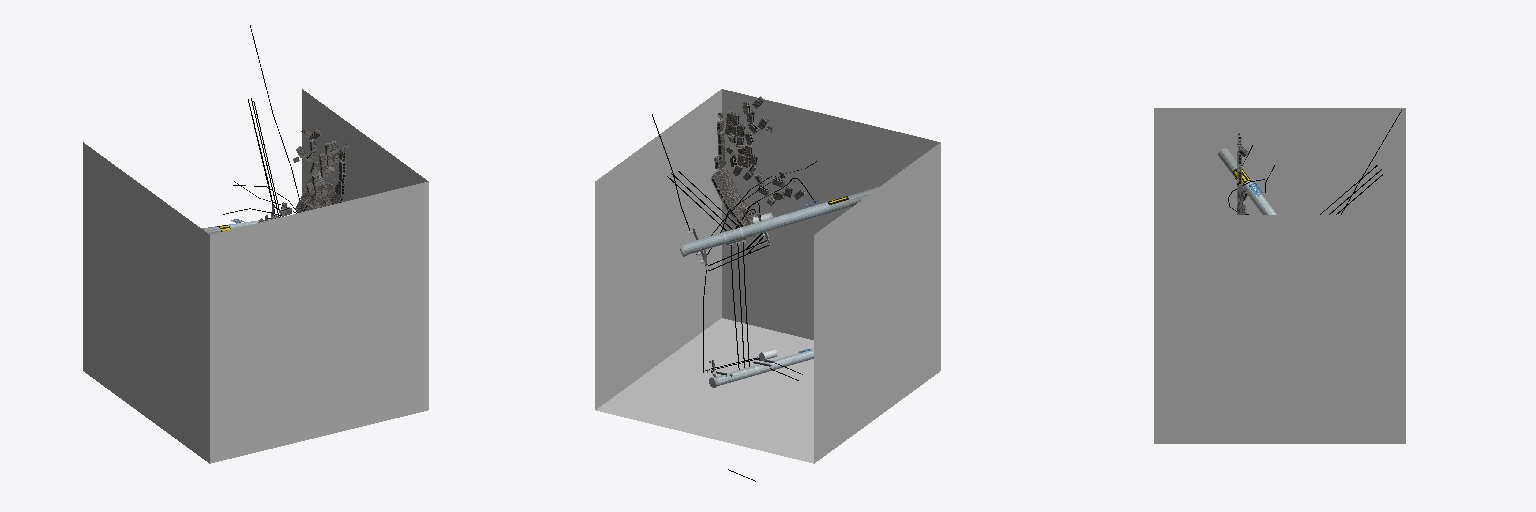
3 renders of one model, left to right at view 1: azimuth 30°, elevation 25°; view 2: azimuth 150°, elevation 25°; view 3: azimuth 270°, elevation 25°, orthographic.
Visible parts, largest first — view 1: Cube_Cube.001, Cube.050; view 2: Cube_Cube.001, Cube.050, Cylinder, Cylinder.003_Cylinder.001; view 3: Cube_Cube.001, Cylinder, Cube.050.
Part boxes in pixels (bbox=[...]): Cube_Cube.001: bbox=[83, 89, 428, 463]; Cube.050: bbox=[258, 127, 348, 222]; Cube_Cube.001: bbox=[595, 89, 940, 463]; Cube.050: bbox=[711, 96, 806, 237]; Cylinder: bbox=[680, 187, 877, 256]; Cylinder.003_Cylinder.001: bbox=[709, 349, 813, 387]; Cube_Cube.001: bbox=[1154, 108, 1405, 443]; Cylinder: bbox=[1218, 148, 1276, 214]; Cube.050: bbox=[1236, 133, 1248, 214].
Size of the model in its own units: 9.48 by 14.34 by 9.48.
Materials: 18 (3 with a texture image).